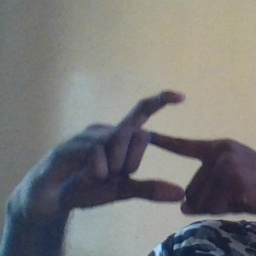E: (110, 85, 203, 205)
